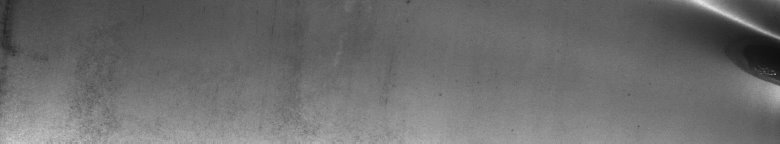ke: (666, 4, 776, 96)
